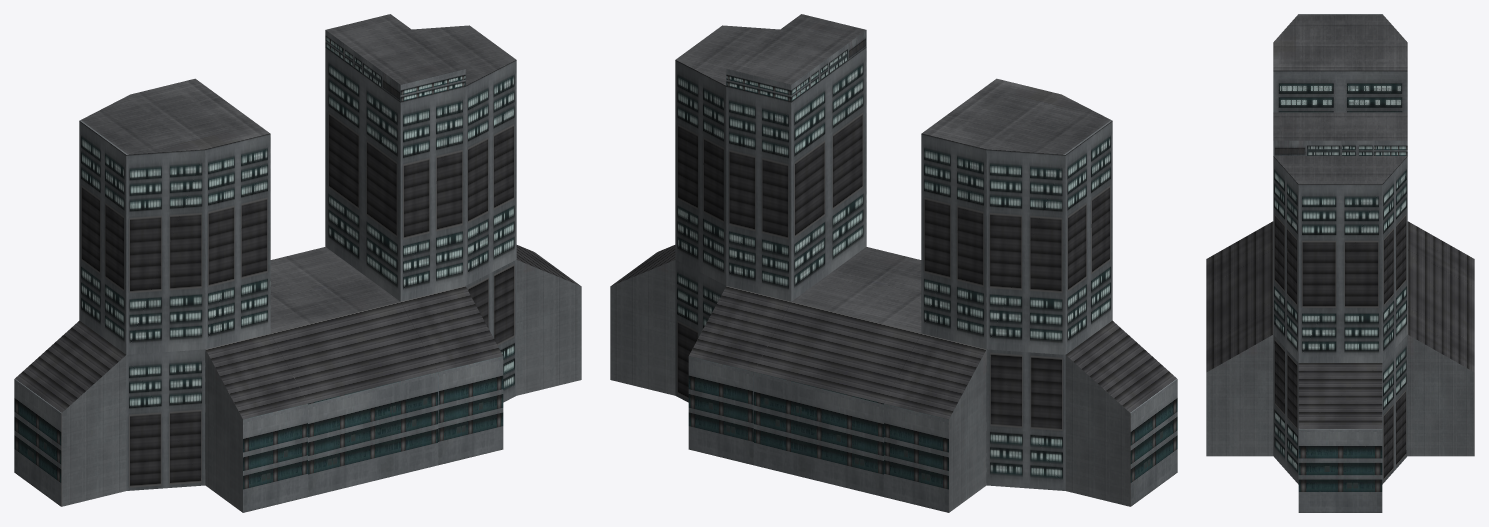
The model's file is Bldg03.fbx.
3 renders of one model, left to right at view 1: azimuth 30°, elevation 25°; view 2: azimuth 150°, elevation 25°; view 3: azimuth 270°, elevation 25°, orthographic. The views are drawn at different scales.
Visible parts, largest first — view 1: Bldg03; view 2: Bldg03; view 3: Bldg03.
Boxes of the visible parts, x1,y1,x2,y2 form: Bldg03: [14, 14, 581, 512]; Bldg03: [610, 14, 1177, 512]; Bldg03: [1206, 14, 1474, 512].
Bounding box in the file's own units: 272 × 176 × 136.
